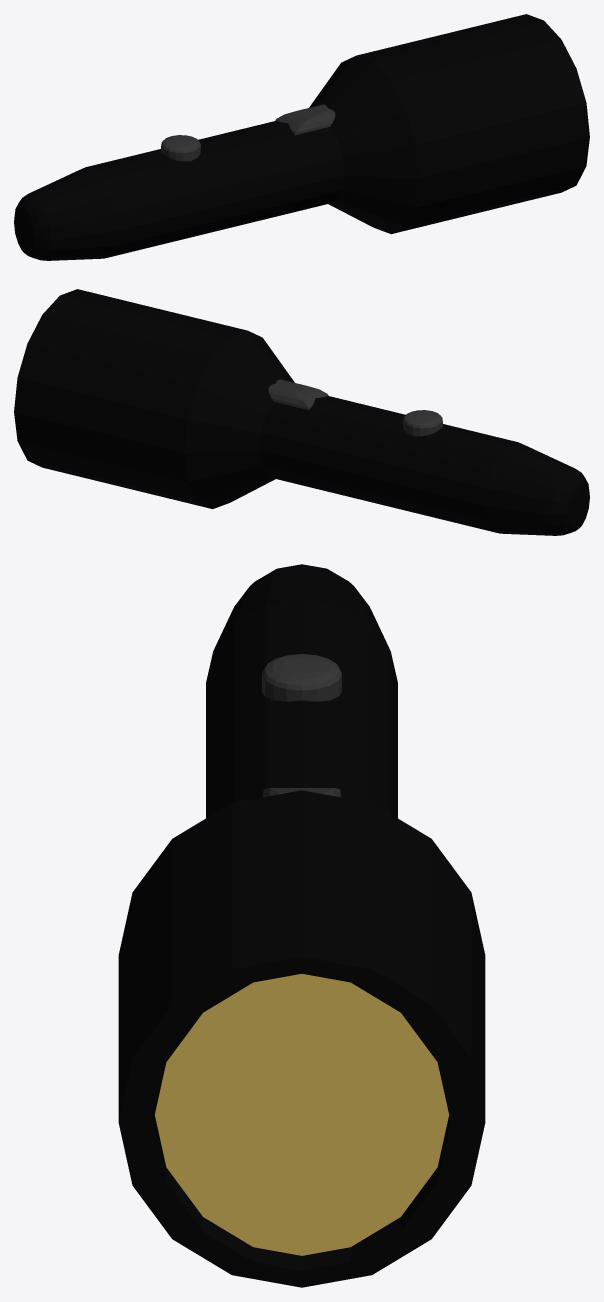
Rendered from Linterna.fbx.
3 views of the same model, one above another, from view 1: azimuth 30°, elevation 25°; view 2: azimuth 150°, elevation 25°; view 3: azimuth 270°, elevation 25° (orthographic). The views are drawn at different scales.
Visible parts, largest first — view 1: Linterna; view 2: Linterna; view 3: Linterna.
Part boxes in pixels (box(x1,y1,x2,y2)): Linterna: box(14, 14, 589, 260); Linterna: box(14, 289, 589, 535); Linterna: box(118, 564, 485, 1287).
Bounding box in the file's own units: 5605 × 1701 × 1709.
